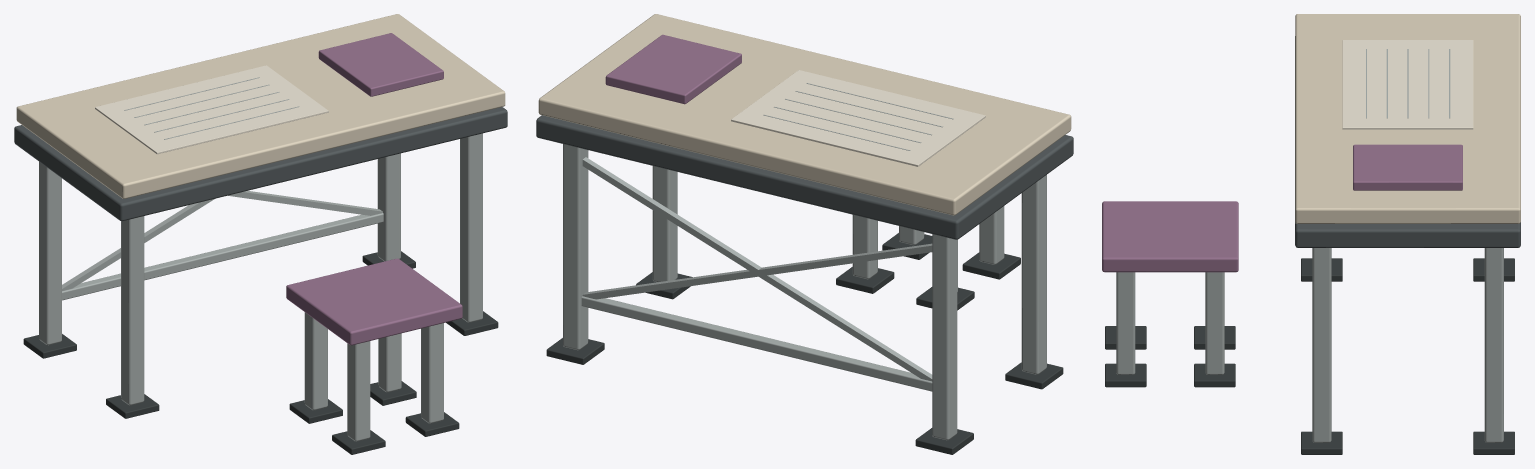
The model's file is museum-conservation-and-art-restoration-museum-conserv-6ac79466__31917.glb.
3 views of the same model, side by side, from view 1: azimuth 30°, elevation 25°; view 2: azimuth 150°, elevation 25°; view 3: azimuth 270°, elevation 25° (orthographic). The views are drawn at different scales.
Visible parts, largest first — view 1: museum-conservation-and-art-restoration-condition-mapping-de (×6); view 2: museum-conservation-and-art-restoration-condition-mapping-de (×6); view 3: museum-conservation-and-art-restoration-condition-mapping-de (×6).
Part boxes in pixels (x1,y1,x2,y2): museum-conservation-and-art-restoration-condition-mapping-de (×6): (14, 14, 507, 454); museum-conservation-and-art-restoration-condition-mapping-de (×6): (536, 14, 1073, 454); museum-conservation-and-art-restoration-condition-mapping-de (×6): (1102, 14, 1520, 454).
Bounding box in the file's own units: 1.58 × 0.96 × 1.41.
